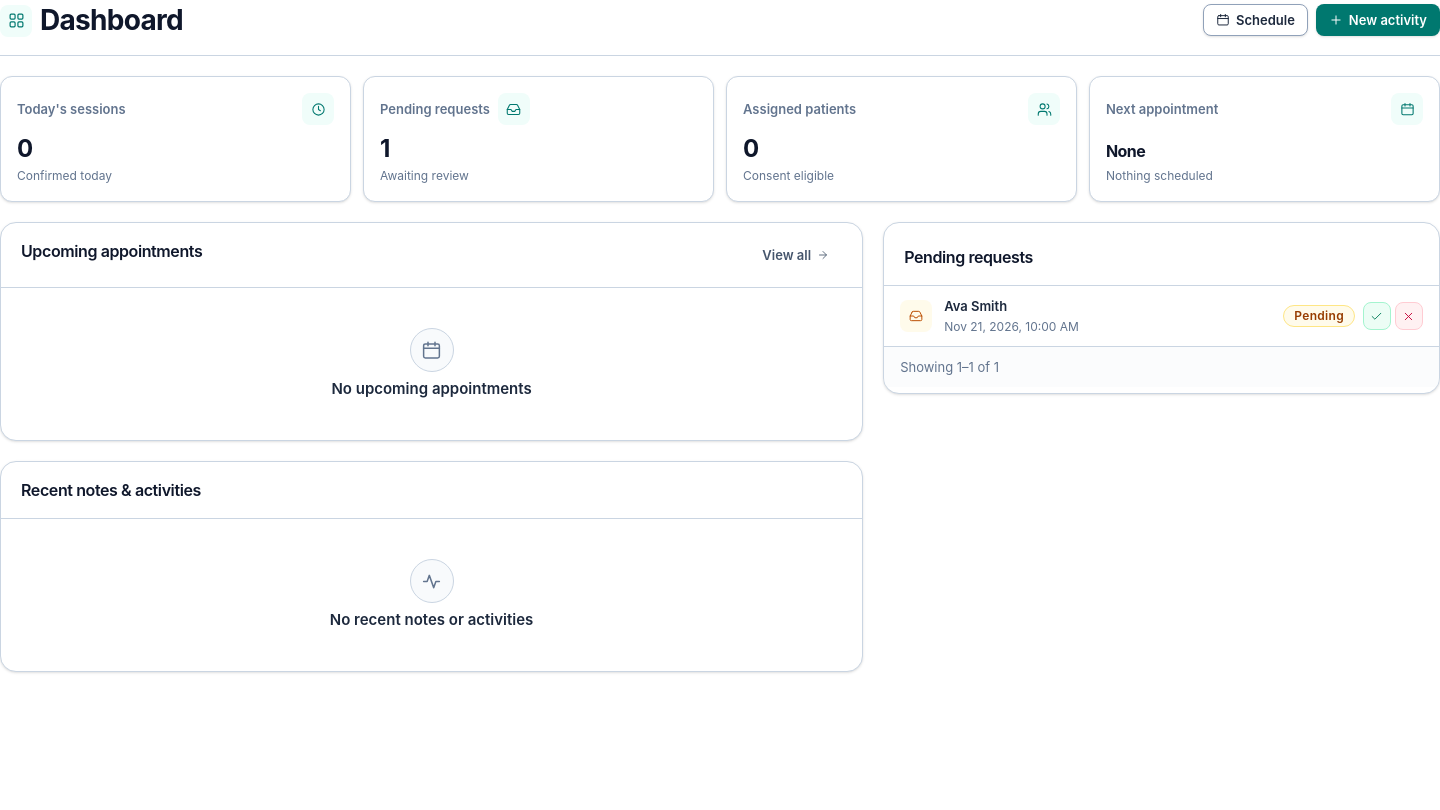
dashboard booking quick actions › opens a pending request in a review modal on the dashboard
The width and height of the screenshot is (1440, 810).
Click the button with aria-label "Review request for Ava Smith" at (916, 316), box x1=900 y1=296 x2=1275 y2=336
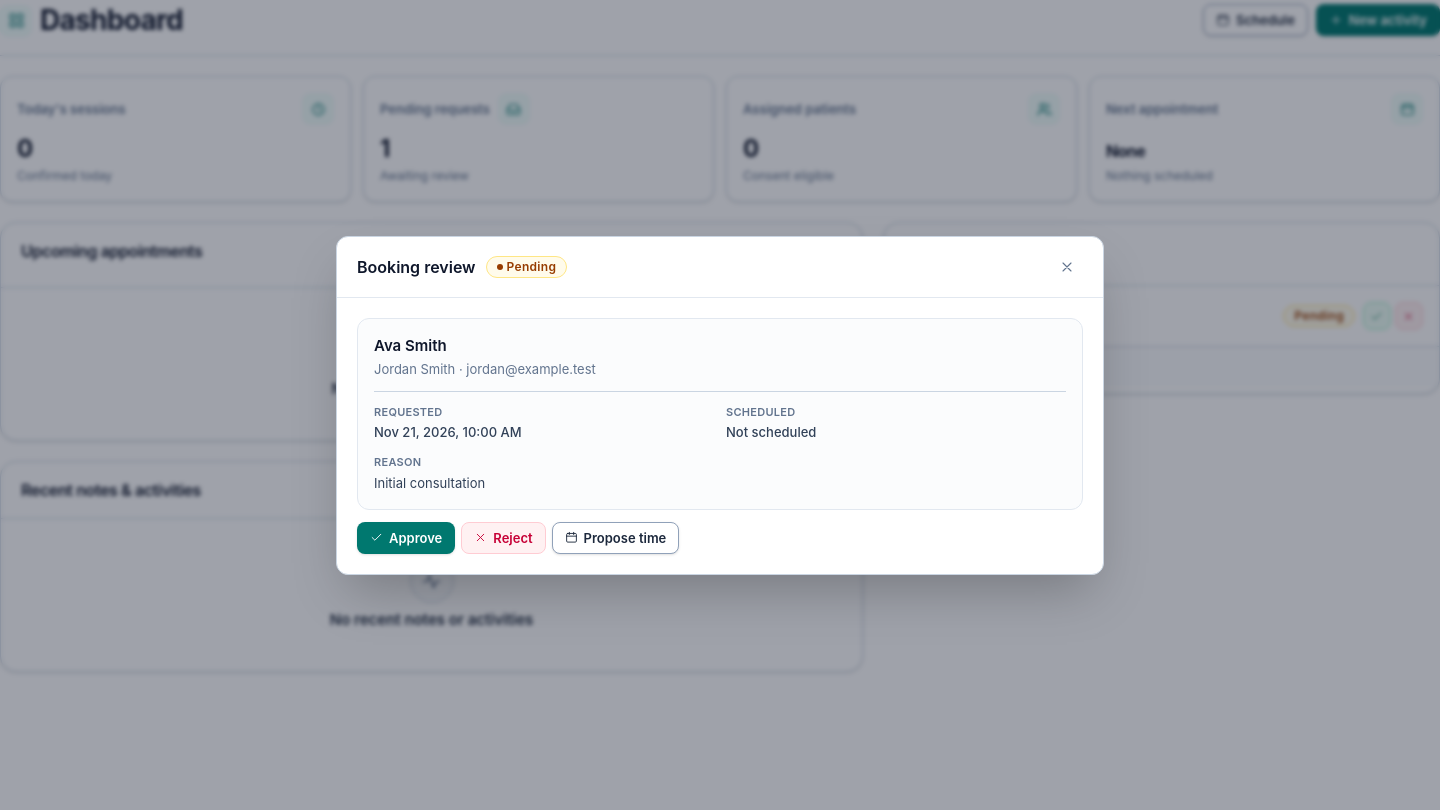
Check: the dialog "Booking review" is shown, box x1=336 y1=236 x2=1104 y2=574
